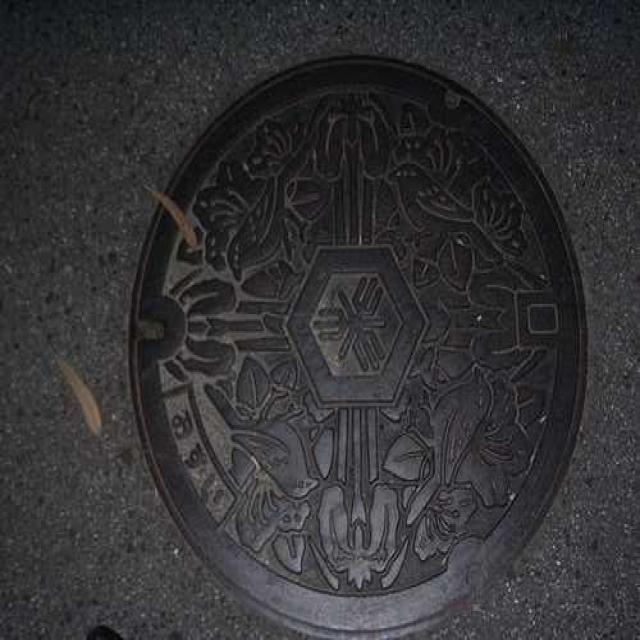manhole: (130, 60, 582, 634)
